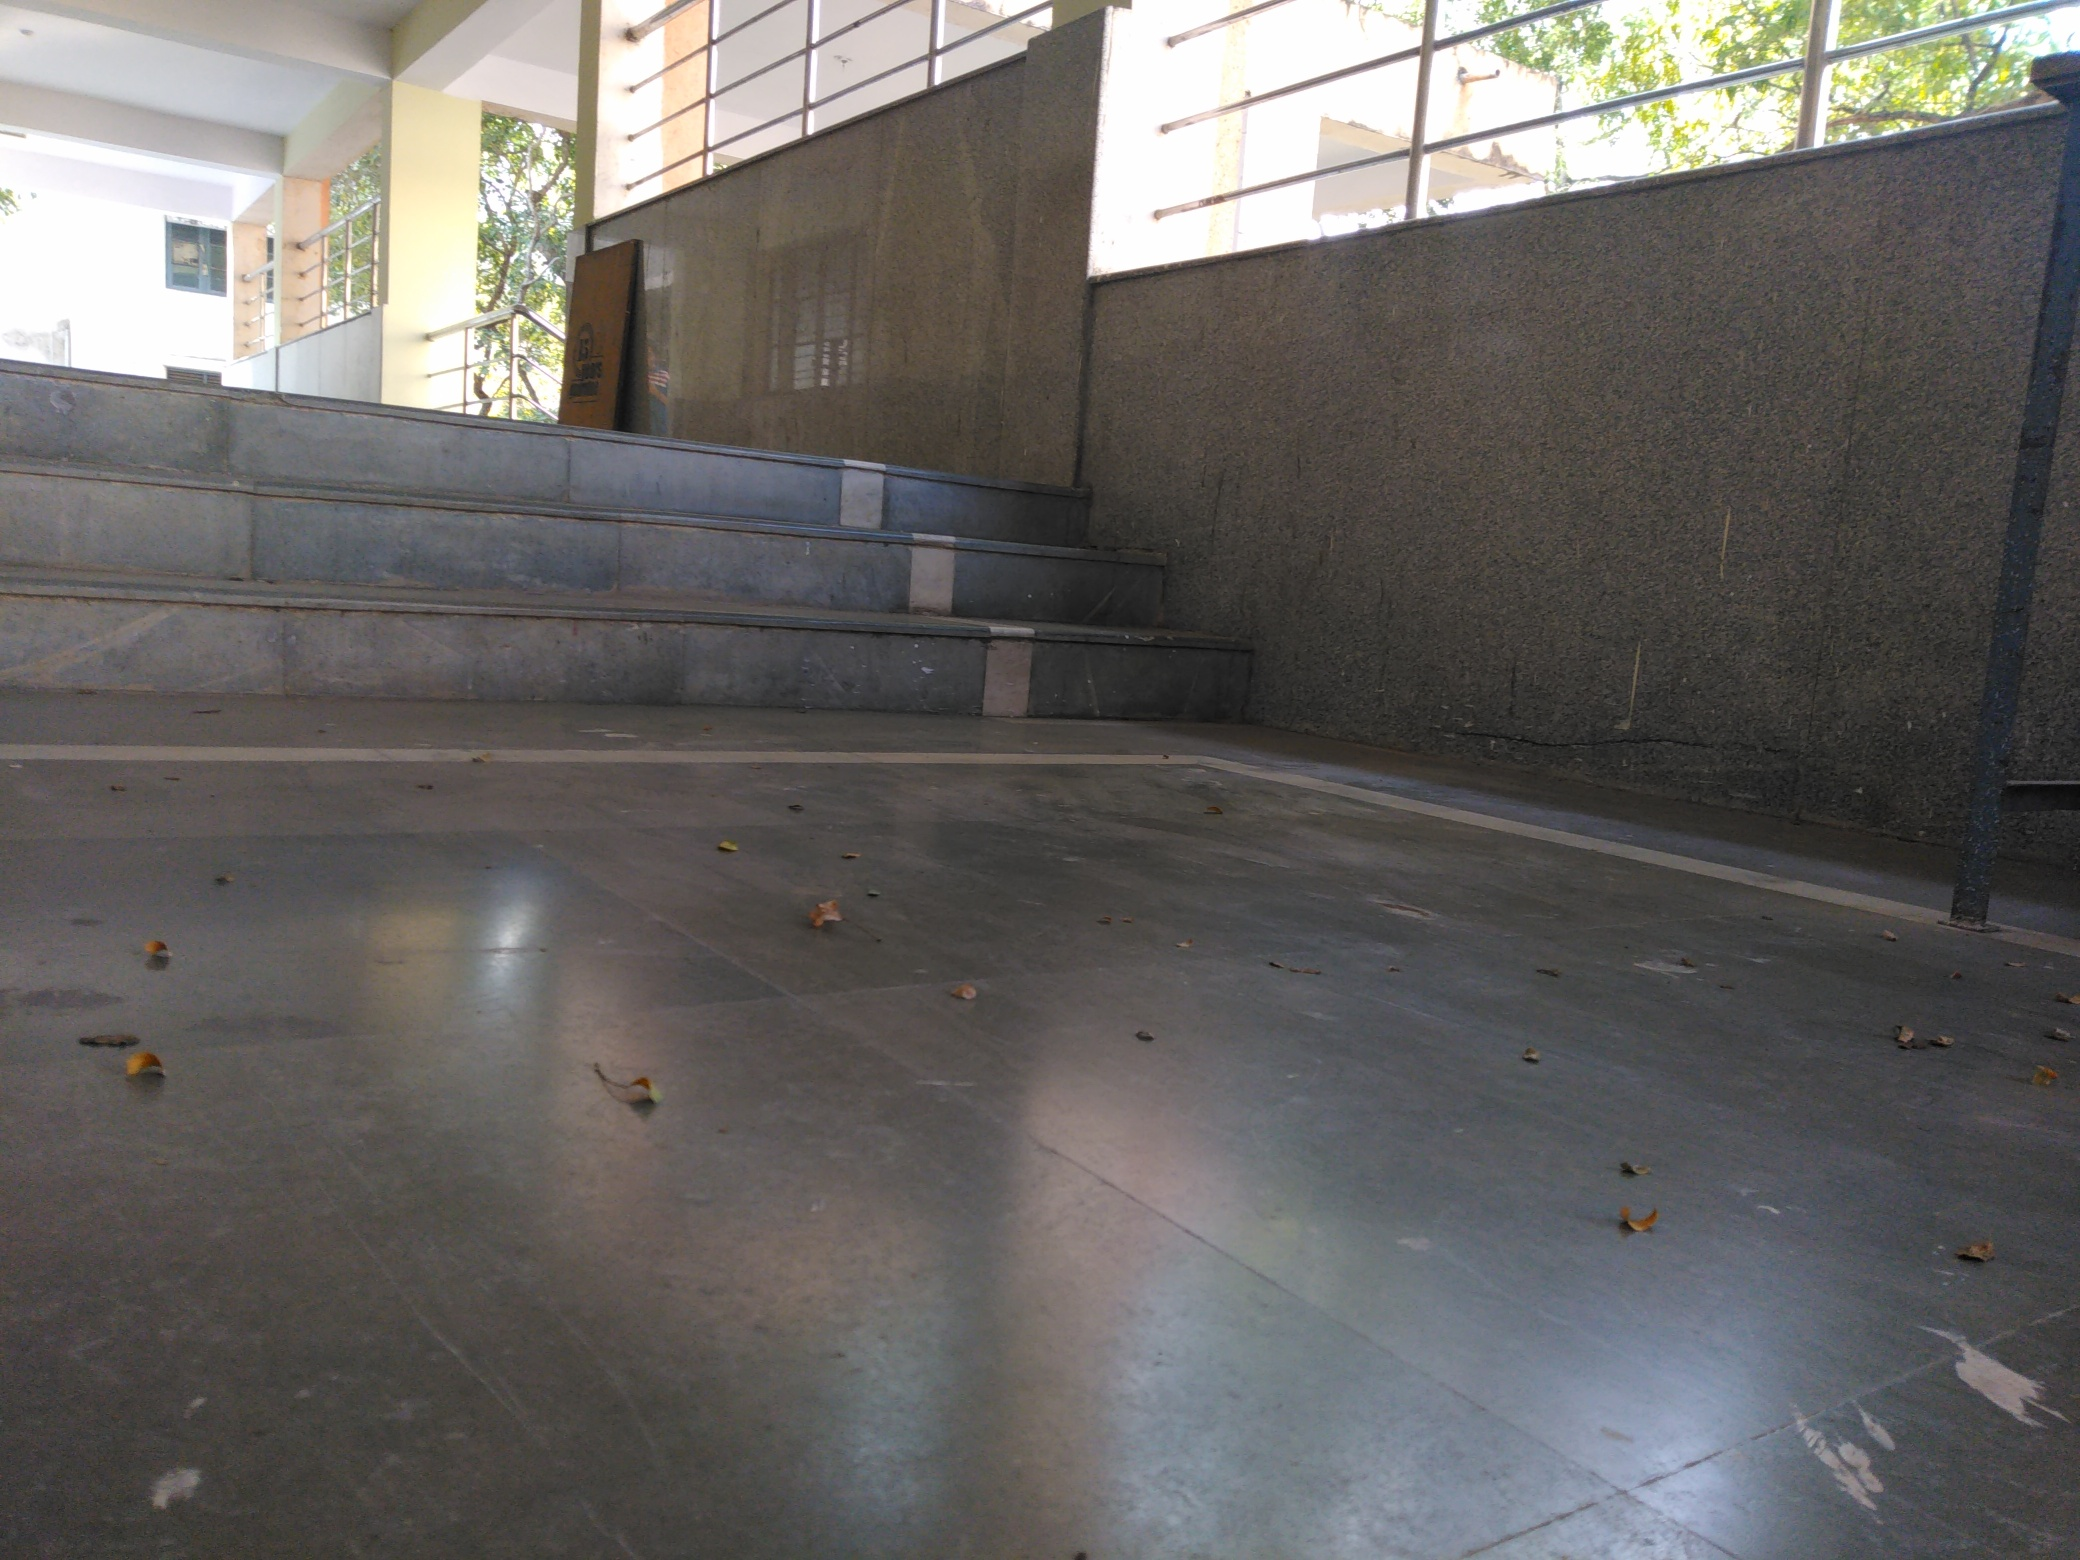stairs_up: (26, 347, 1122, 739)
